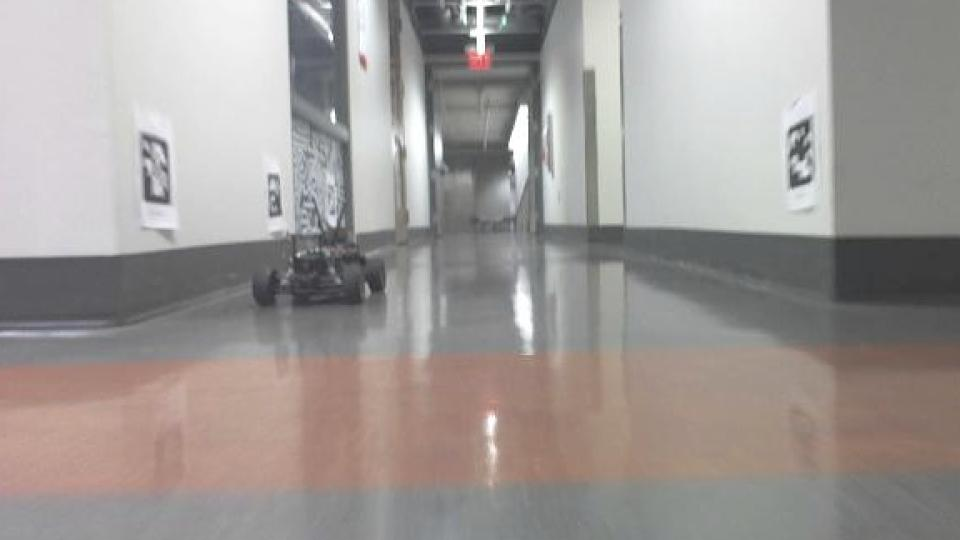car: (247, 193, 390, 312)
